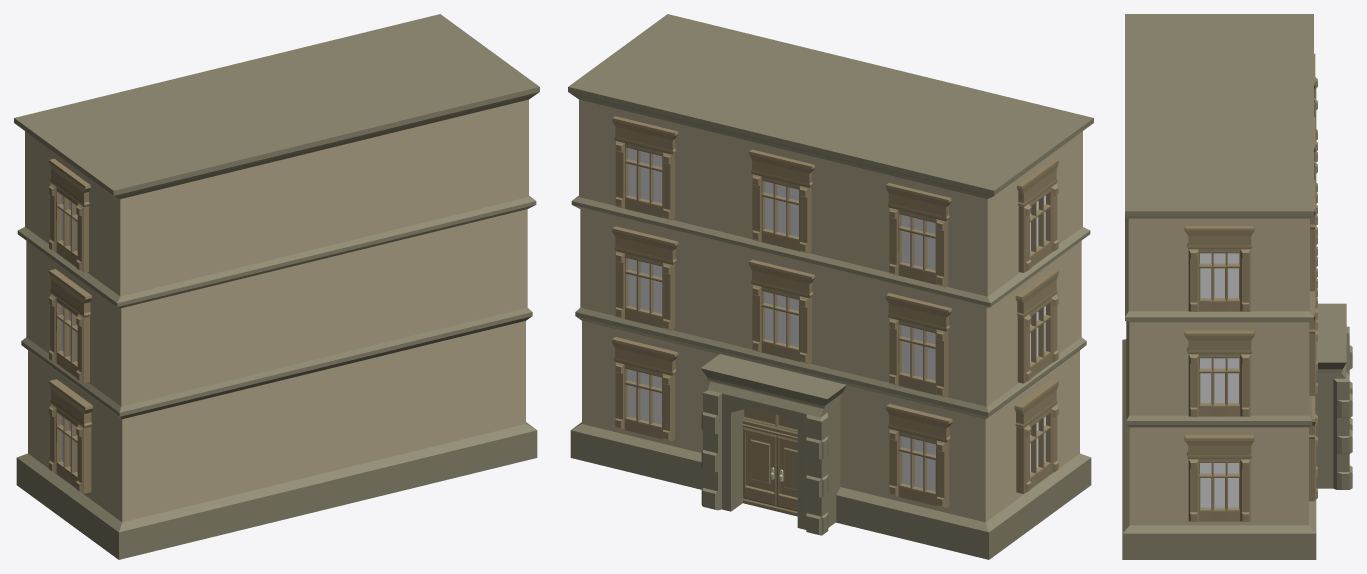
Rendered from AppartmentRichColoursA.fbx.
3 views of the same model, side by side, from view 1: azimuth 30°, elevation 25°; view 2: azimuth 150°, elevation 25°; view 3: azimuth 270°, elevation 25° (orthographic). The views are drawn at different scales.
Parts seen in each view (by area): view 1: AppartmentRichColoursA; view 2: AppartmentRichColoursA; view 3: AppartmentRichColoursA.
Part boxes in pixels (x1,y1,x2,y2): AppartmentRichColoursA: [14, 14, 539, 559]; AppartmentRichColoursA: [568, 14, 1093, 559]; AppartmentRichColoursA: [1122, 14, 1352, 559].
Size of the model in its own units: 1147 by 566 by 950.
